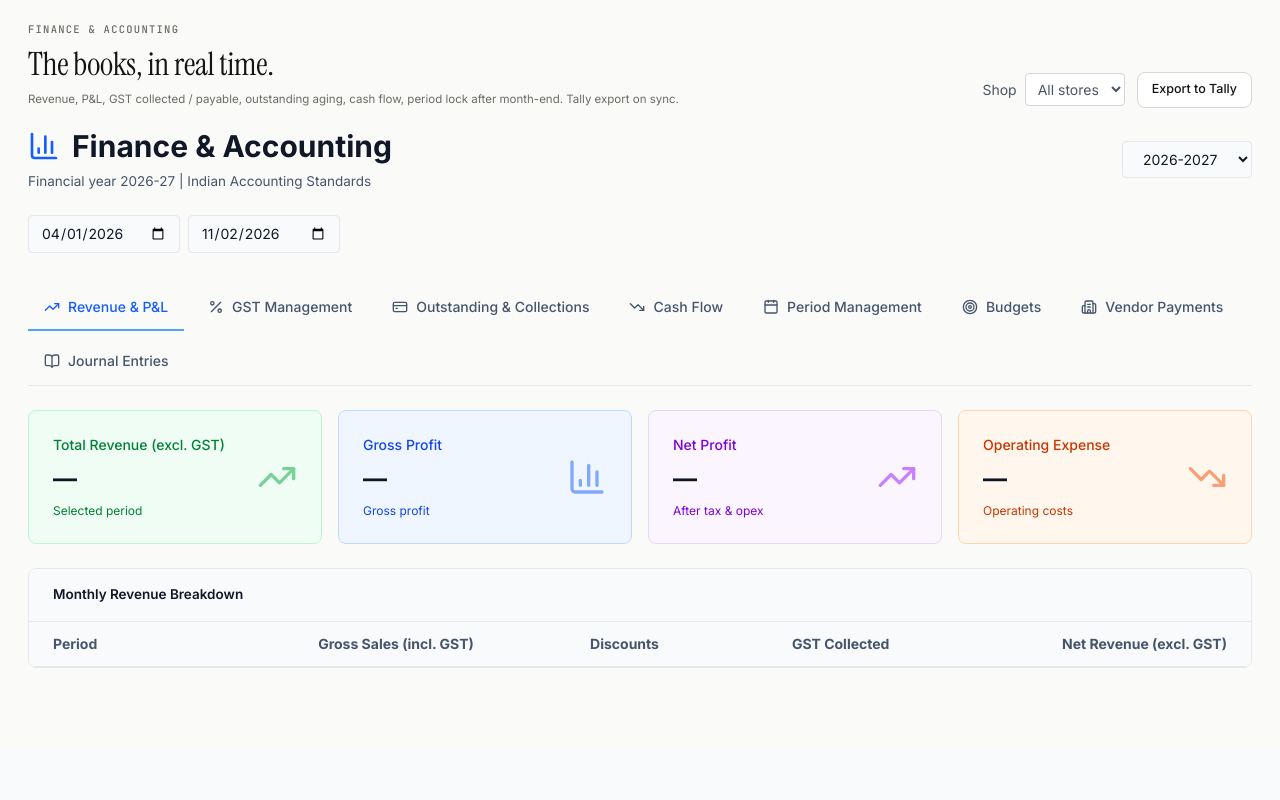
Test: Finance dashboard, a login with no shop › an admin with no shop still gets the cash flow panel
The width and height of the screenshot is (1280, 800).
Click the button "Cash Flow".
click(676, 308)  # box [614,285,739,331]
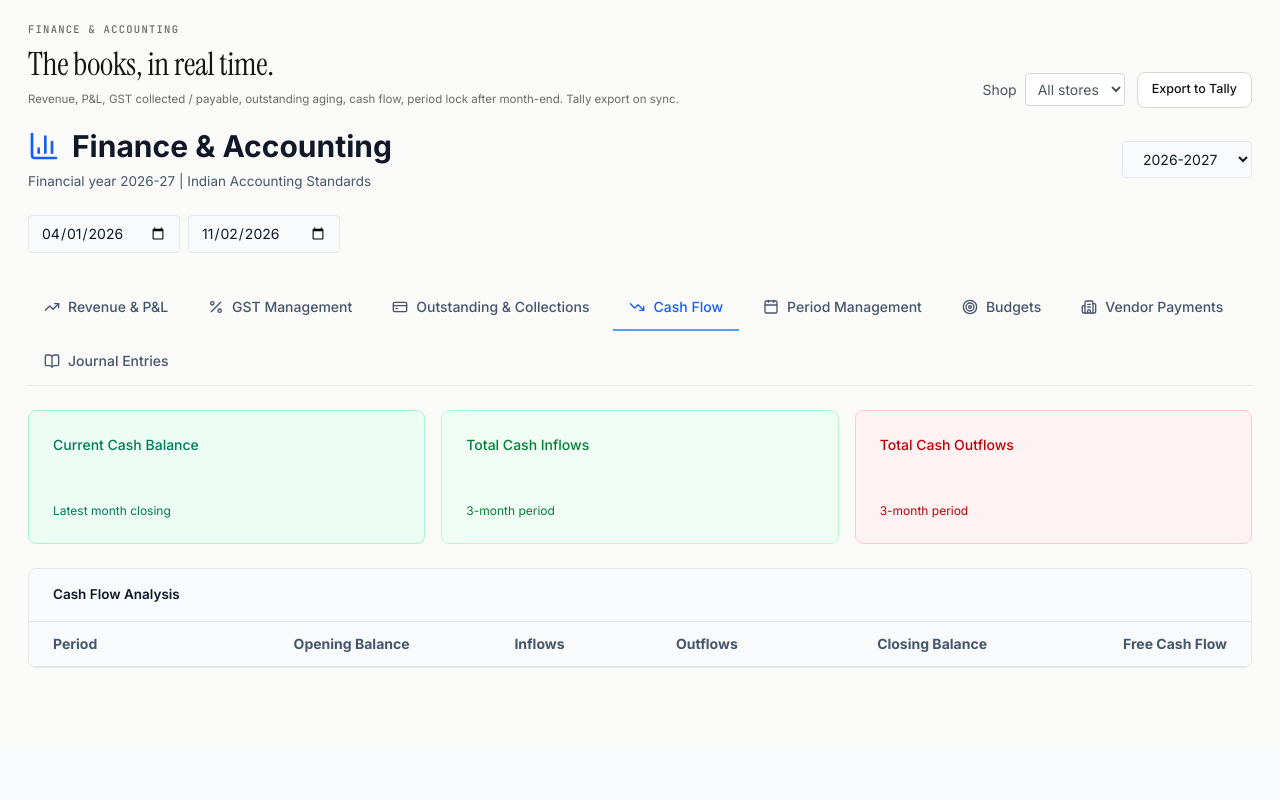
Now the text "Total Cash Outflows" is shown, box [880,436,1014,453]
